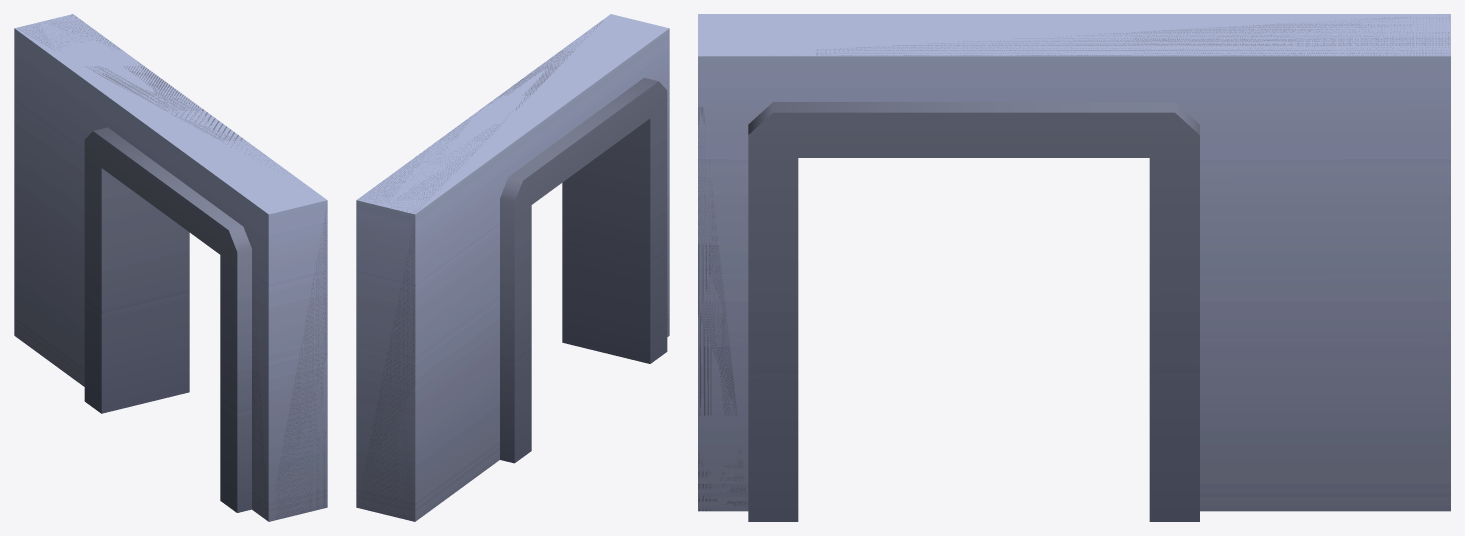
File: wall-doorway-sliding.glb
3 renders of one model, left to right at view 1: azimuth 30°, elevation 25°; view 2: azimuth 150°, elevation 25°; view 3: azimuth 270°, elevation 25°, orthographic. The views are drawn at different scales.
Parts seen in each view (by area): view 1: wall-doorway-sliding; view 2: wall-doorway-sliding; view 3: wall-doorway-sliding.
Part boxes in pixels (x1,y1,x2,y2): wall-doorway-sliding: (14, 14, 327, 521); wall-doorway-sliding: (356, 14, 669, 521); wall-doorway-sliding: (698, 14, 1450, 521).
Bounding box in the file's own units: 0.2999 × 1 × 1.5.
1 material, 1 textured.
